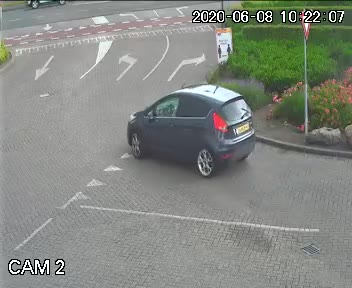car: (112, 74, 266, 181)
